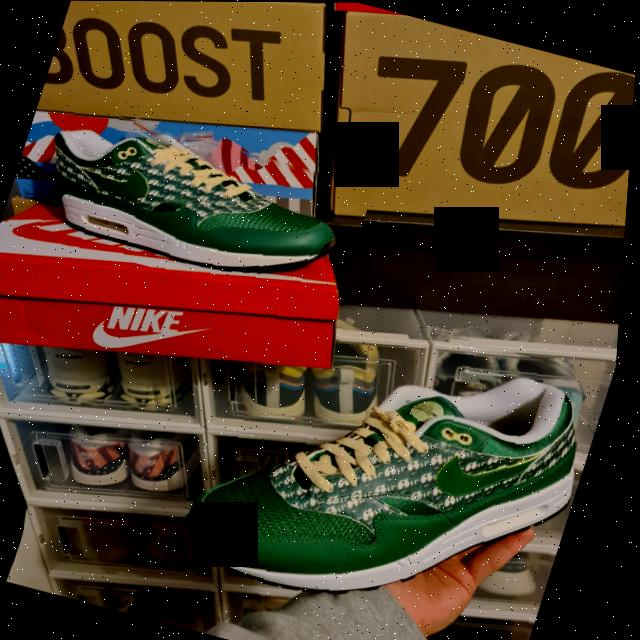shoe: (162, 279, 622, 640), (12, 97, 382, 315)
